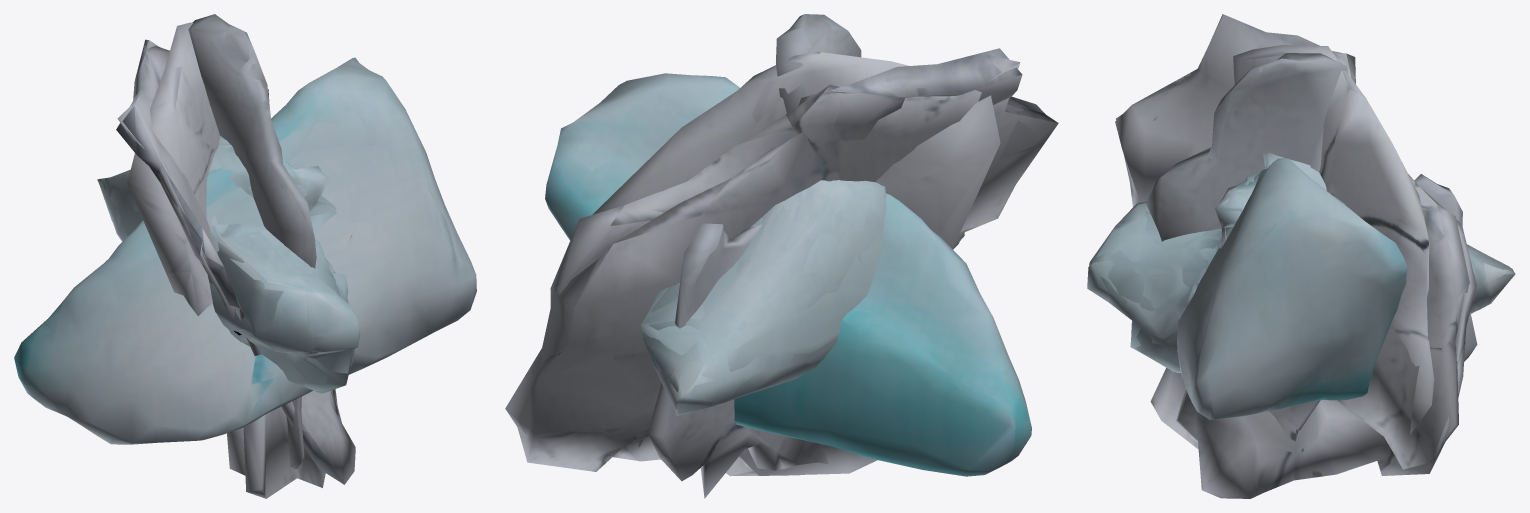
The model's file is Icebergs_low.fbx.
3 views of the same model, side by side, from view 1: azimuth 30°, elevation 25°; view 2: azimuth 150°, elevation 25°; view 3: azimuth 270°, elevation 25° (orthographic). The views are drawn at different scales.
Visible parts, largest first — view 1: high_poly.001, high_poly.003, high_poly.005, high_poly.006, high_poly, high_poly.004, high_poly.002; view 2: high_poly.001, high_poly, high_poly.006, high_poly.002, high_poly.005, high_poly.004, high_poly.003; view 3: high_poly.001, high_poly, high_poly.003, high_poly.002, high_poly.006, high_poly.005, high_poly.004.
Part boxes in pixels (left/top/right/bottom): high_poly.001: left=14, top=57, right=476, bottom=444; high_poly.003: left=188, top=14, right=316, bottom=469; high_poly.005: left=97, top=136, right=360, bottom=392; high_poly.006: left=127, top=22, right=269, bottom=475; high_poly: left=116, top=42, right=355, bottom=484; high_poly.004: left=98, top=136, right=356, bottom=393; high_poly.002: left=117, top=39, right=325, bottom=498; high_poly.001: left=545, top=73, right=1031, bottom=476; high_poly: left=517, top=48, right=1045, bottom=471; high_poly.006: left=592, top=52, right=1000, bottom=475; high_poly.002: left=505, top=54, right=1058, bottom=476; high_poly.005: left=641, top=180, right=963, bottom=415; high_poly.004: left=642, top=180, right=964, bottom=415; high_poly.003: left=648, top=14, right=861, bottom=498; high_poly.001: left=1177, top=158, right=1407, bottom=419; high_poly: left=1115, top=14, right=1476, bottom=498; high_poly.003: left=1146, top=53, right=1477, bottom=440; high_poly.002: left=1116, top=14, right=1469, bottom=469; high_poly.006: left=1233, top=45, right=1434, bottom=434; high_poly.005: left=1087, top=153, right=1515, bottom=372; high_poly.004: left=1088, top=154, right=1514, bottom=372.
Bounding box in the file's own units: 1 × 1.05 × 1.
